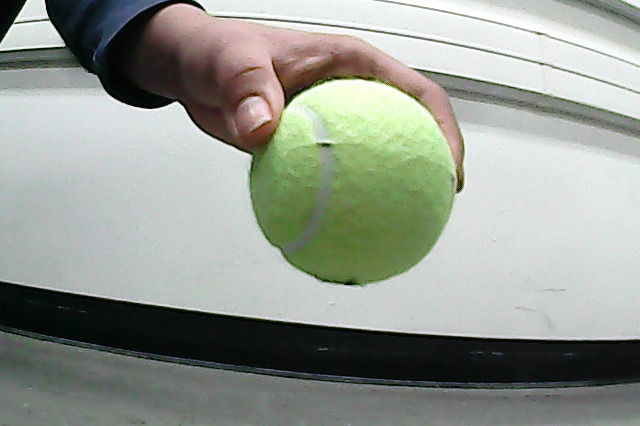ball: (250, 78, 455, 286)
